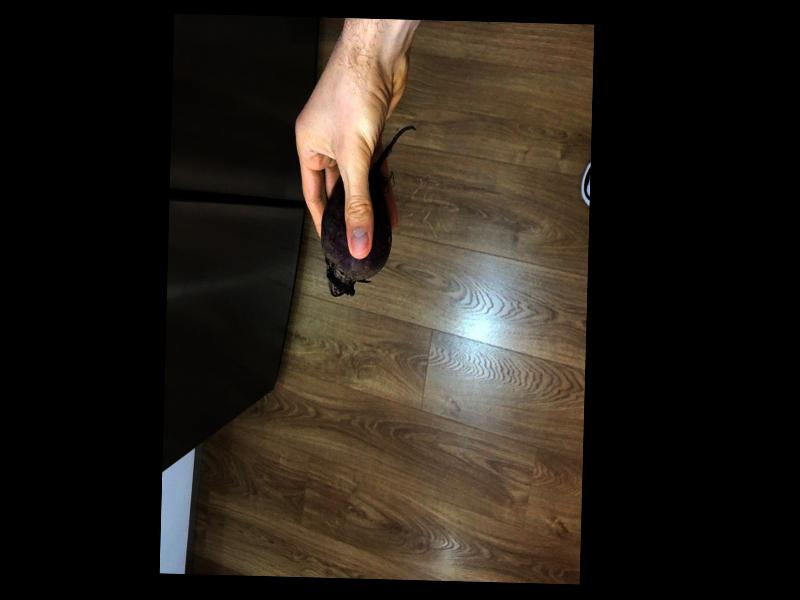Beet: (318, 125, 416, 300)
